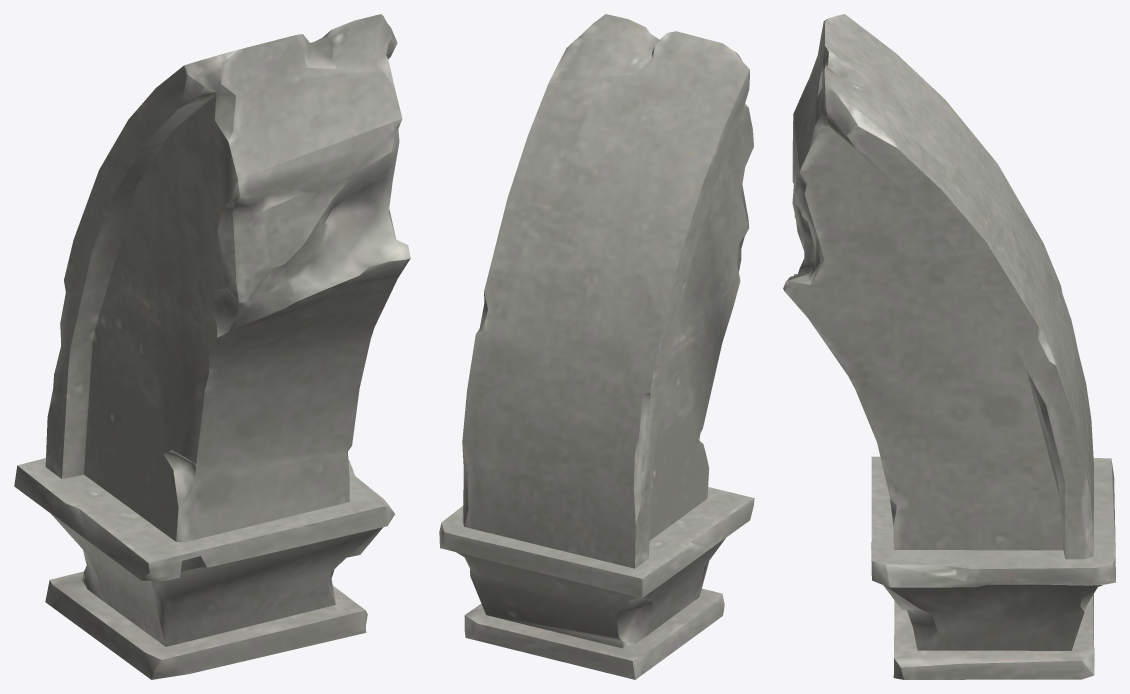
The model's file is ramp_mod_blocks000b.fbx.
3 renders of one model, left to right at view 1: azimuth 30°, elevation 25°; view 2: azimuth 150°, elevation 25°; view 3: azimuth 270°, elevation 25°, orthographic. The views are drawn at different scales.
Visible parts, largest first — view 1: ramp_mod_blocks000b; view 2: ramp_mod_blocks000b; view 3: ramp_mod_blocks000b.
Boxes of the visible parts, <box> form: ramp_mod_blocks000b: <box>14,14,410,679</box>; ramp_mod_blocks000b: <box>439,14,754,679</box>; ramp_mod_blocks000b: <box>783,14,1115,679</box>.
Size of the model in its own units: 9623 by 23233 by 11972.
